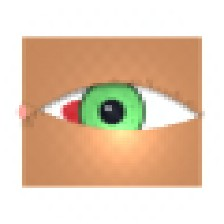hemorrhage_spot: (51, 82, 126, 142)
